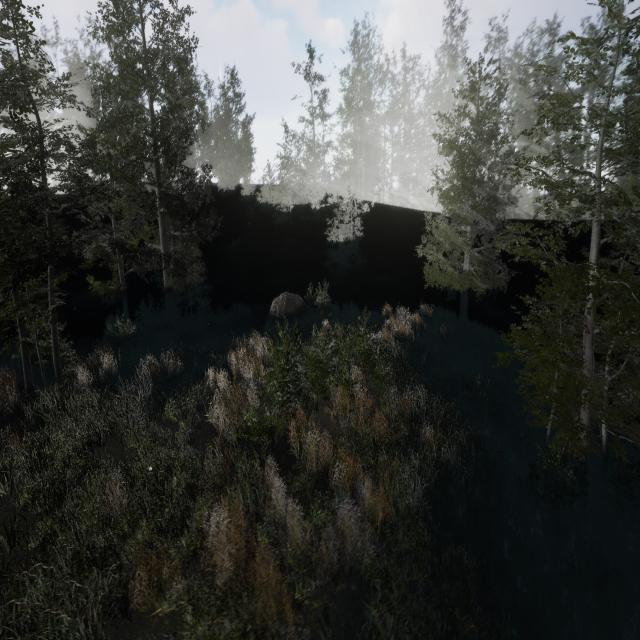Human: (324, 327, 347, 364)
